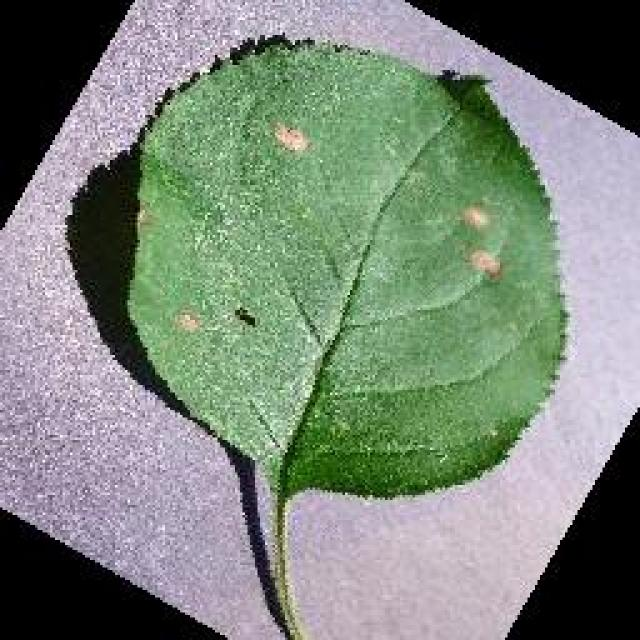Black_rot: (120, 30, 572, 638)
